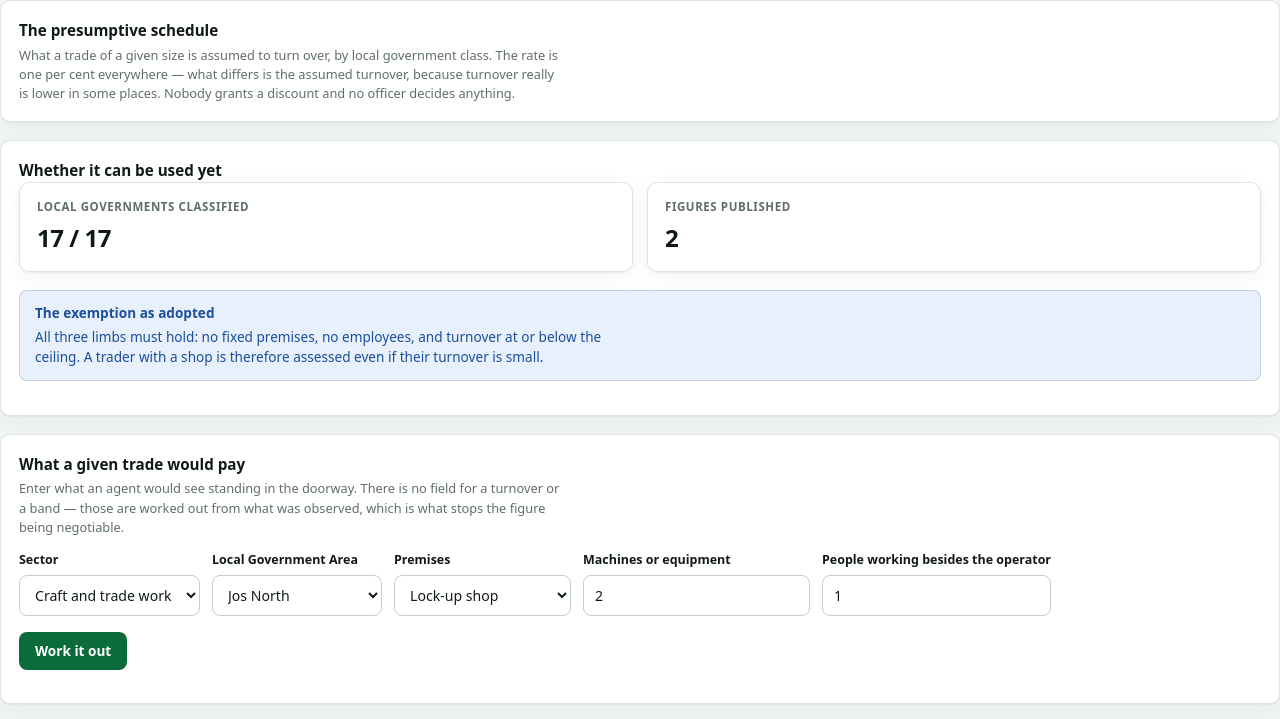
Test: working out one trade › shows the working, not just the figure
The width and height of the screenshot is (1280, 719).
What coordinates should you click on to do the following:
click the button "Work it out"
I would click on:
 (73, 651)
Its box is [19,632,127,670].
(page scrolled)
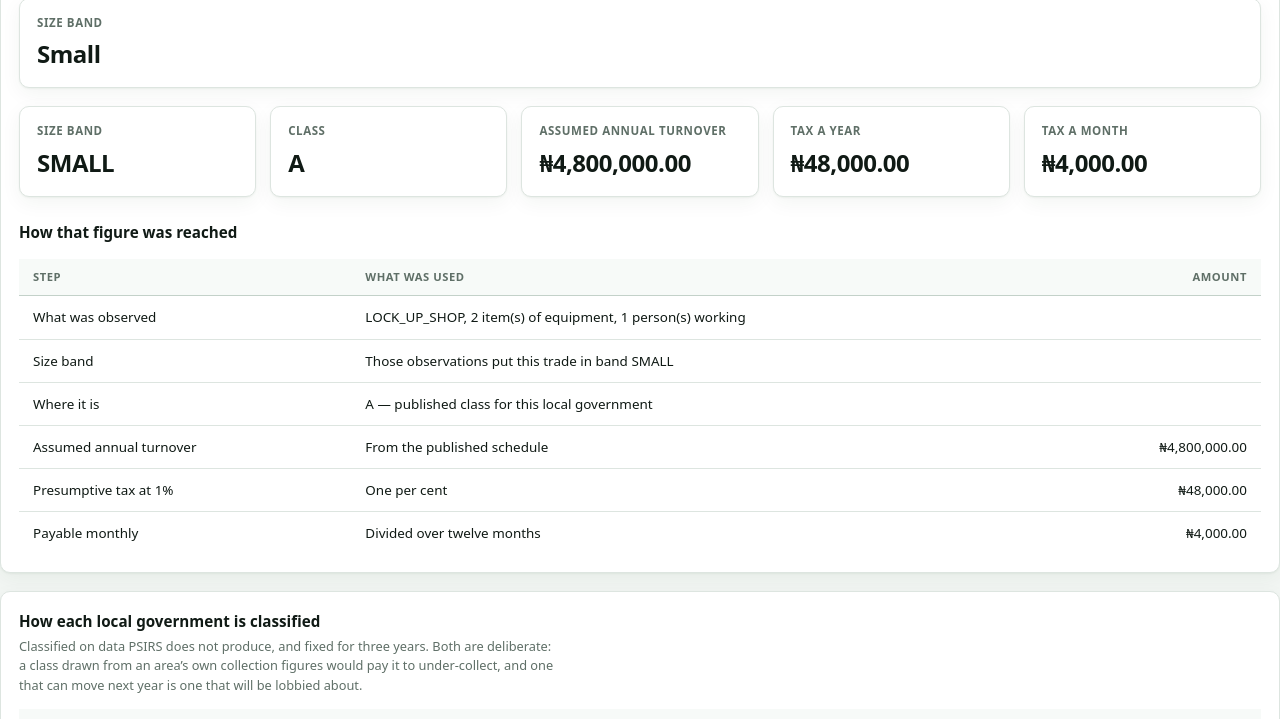
Expected: the heading "How that figure was reached" is shown, [19,222,237,242]
Expected: the text "What was observed" is shown, [19,296,351,339]
Expected: the text "Presumptive tax at 1%" is shown, [19,469,351,512]
